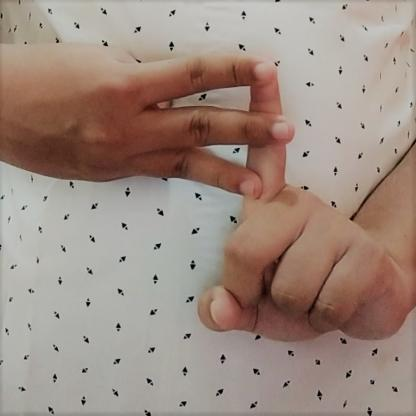B: (55, 40, 399, 352)
